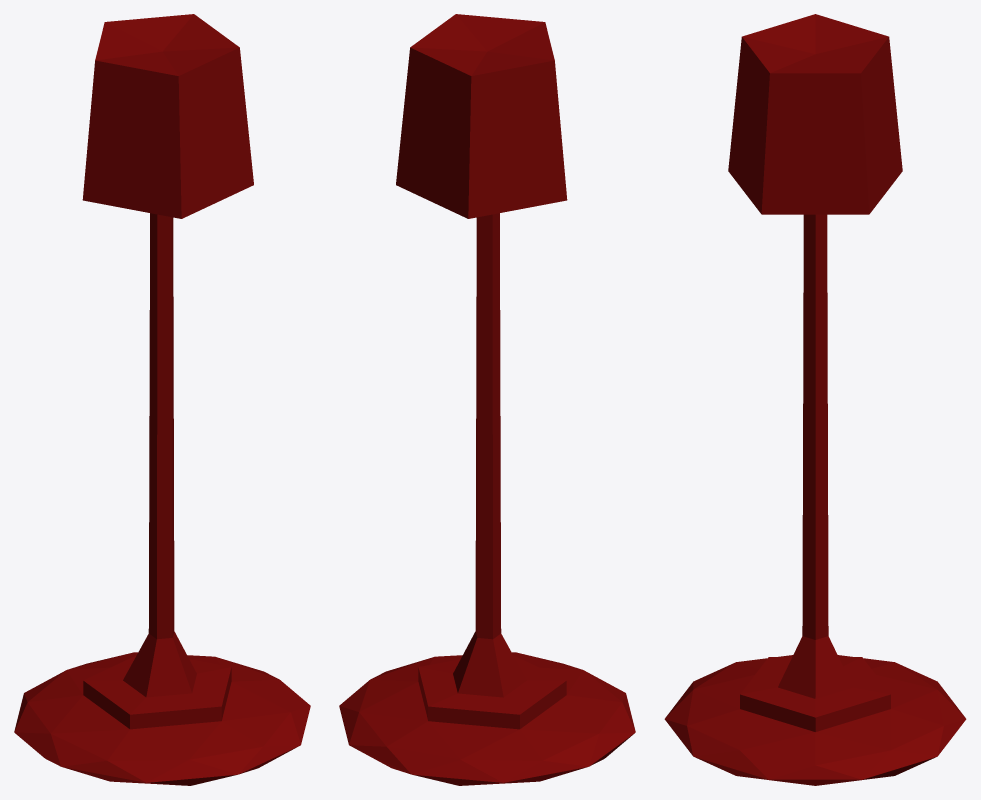
Rendered from SM_Lamp.fbx.
3 renders of one model, left to right at view 1: azimuth 30°, elevation 25°; view 2: azimuth 150°, elevation 25°; view 3: azimuth 270°, elevation 25°, orthographic.
Parts seen in each view (by area): view 1: Icosphere; view 2: Icosphere; view 3: Icosphere.
Boxes of the visible parts, left/top/right/bottom form: Icosphere: left=14, top=14, right=310, bottom=785; Icosphere: left=339, top=14, right=635, bottom=785; Icosphere: left=664, top=14, right=966, bottom=785.
Size of the model in its own units: 190 by 509 by 200.
